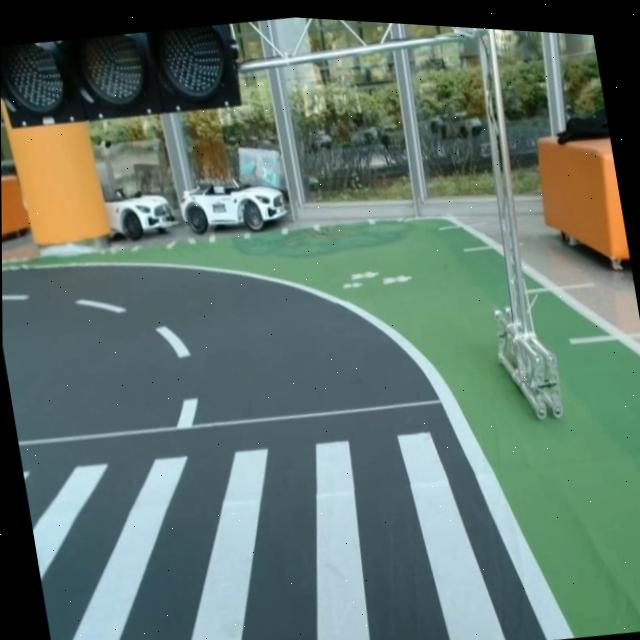traffic-light: (0, 10, 251, 148)
